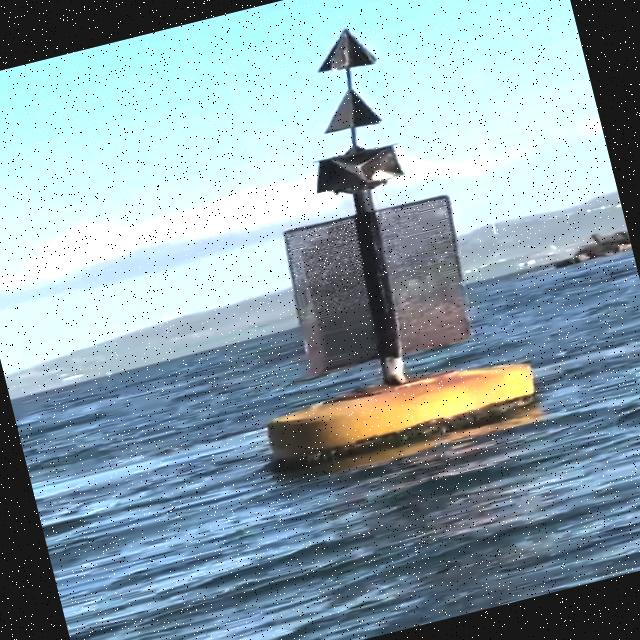marque: (187, 5, 551, 474)
